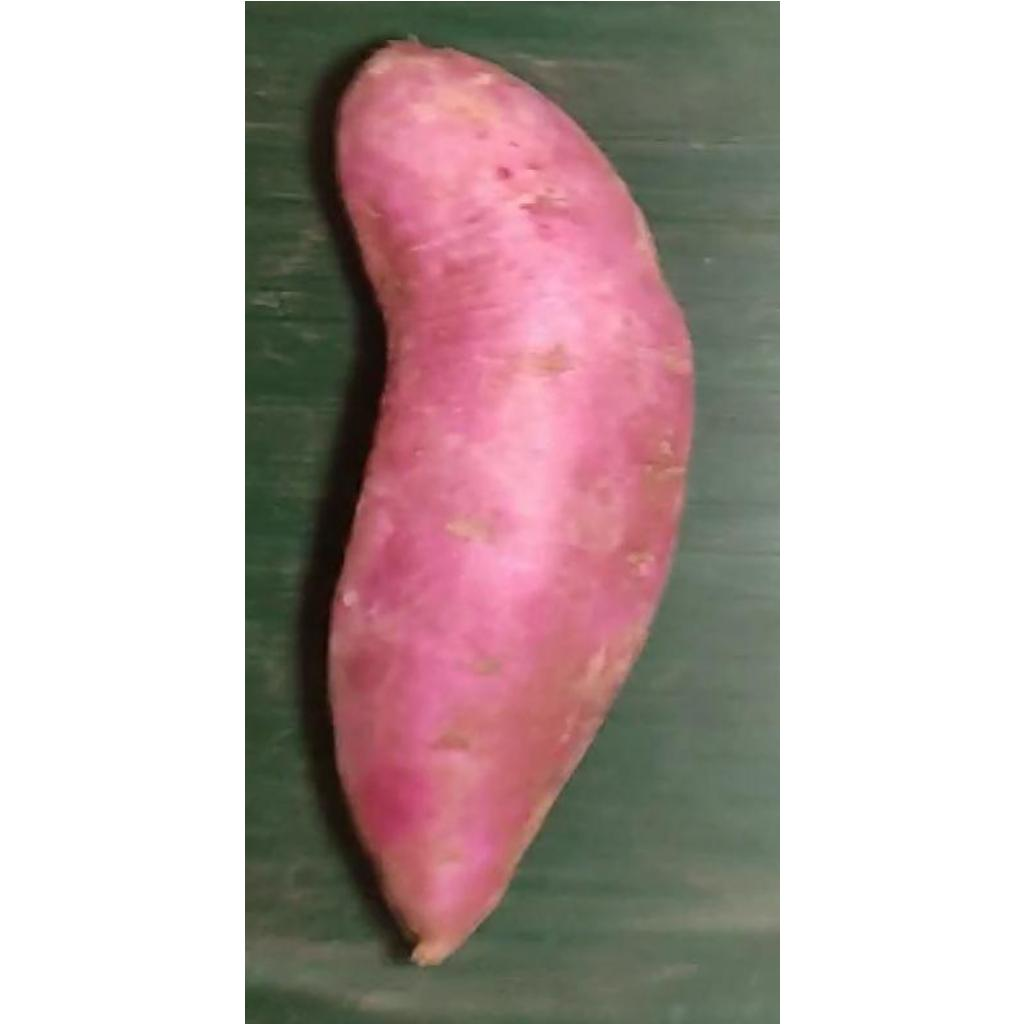Sweet Potato: (325, 35, 695, 972)
